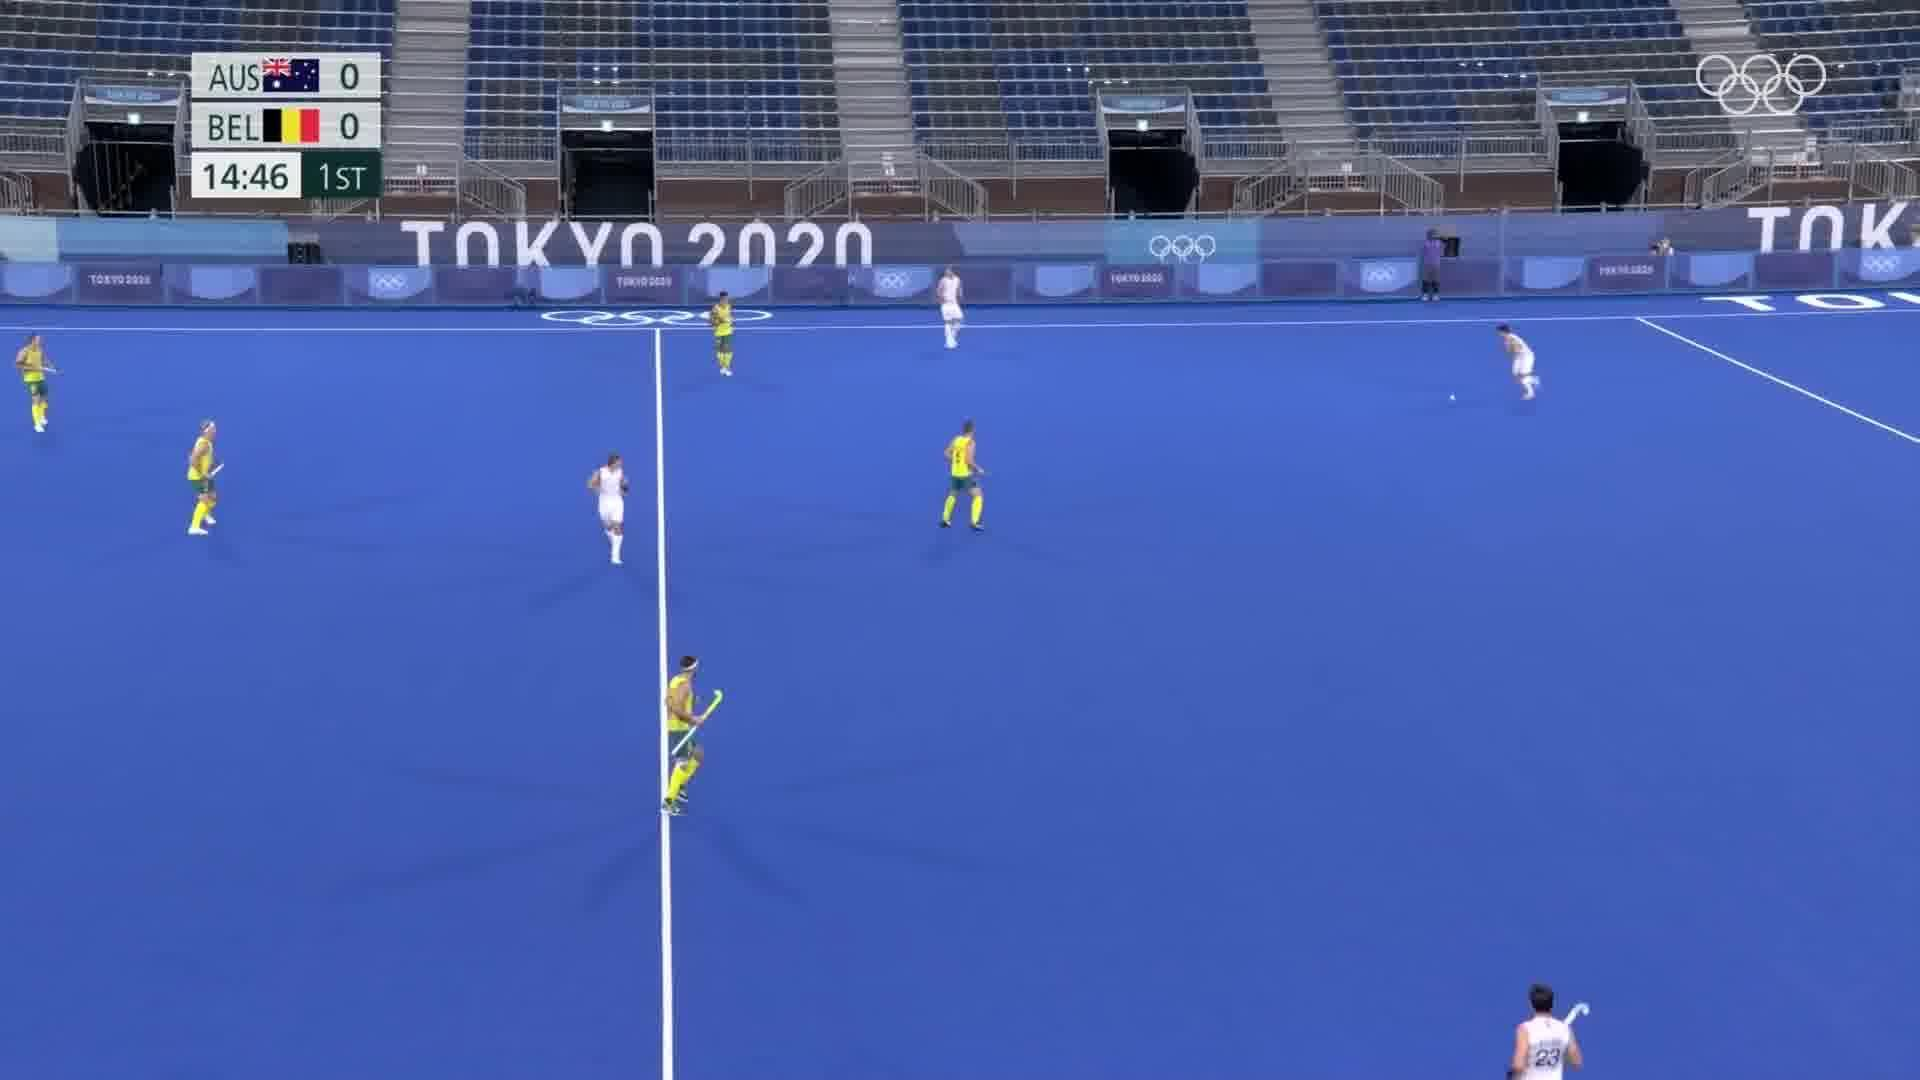ball: (1442, 382, 1475, 409)
